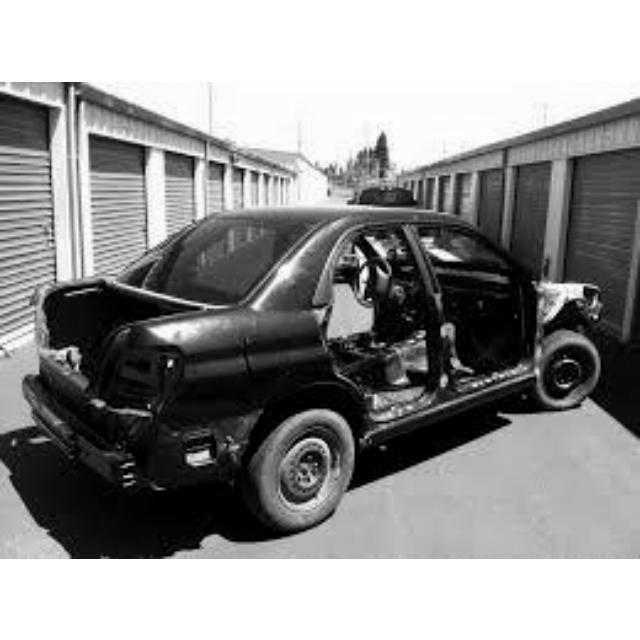doorouter-dent: (308, 212, 421, 394)
rear-bumper-dent: (10, 379, 160, 479)
